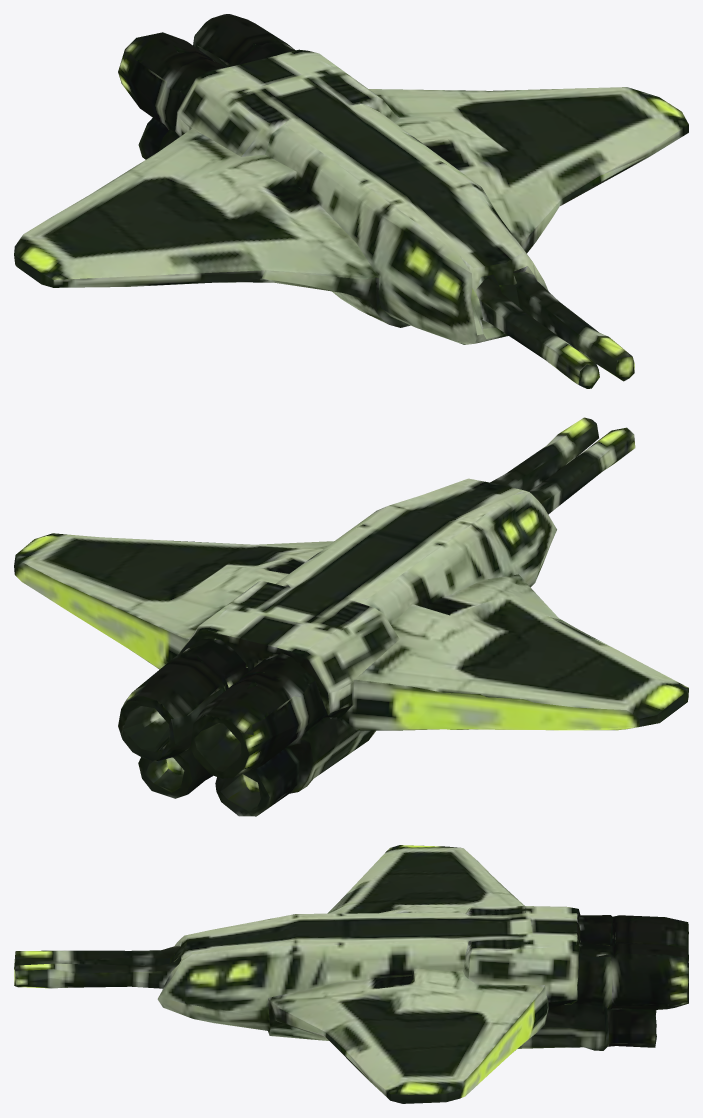
Rendered from enemy-shooter-s7.glb.
3 renders of one model, top to bottom at view 1: azimuth 30°, elevation 25°; view 2: azimuth 150°, elevation 25°; view 3: azimuth 270°, elevation 25°, orthographic. The views are drawn at different scales.
Visible parts, largest first — view 1: 85775bae-5782-4804-8cdf-365772ca311a_texturing.obj; view 2: 85775bae-5782-4804-8cdf-365772ca311a_texturing.obj; view 3: 85775bae-5782-4804-8cdf-365772ca311a_texturing.obj.
Boxes of the visible parts, x1=… form: 85775bae-5782-4804-8cdf-365772ca311a_texturing.obj: x1=14, y1=14, x2=688, y2=388; 85775bae-5782-4804-8cdf-365772ca311a_texturing.obj: x1=14, y1=417, x2=688, y2=816; 85775bae-5782-4804-8cdf-365772ca311a_texturing.obj: x1=14, y1=845, x2=688, y2=1103.
Size of the model in its own units: 1.75 by 0.3463 by 1.99.
Materials: 1 (1 with a texture image).
